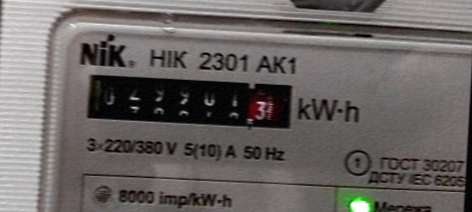0: (202, 82, 217, 108), (101, 83, 118, 105)
1: (227, 84, 241, 108)
2: (126, 82, 143, 102)
3: (253, 97, 267, 119)
9: (177, 83, 192, 105), (152, 81, 165, 104)
screen: (74, 62, 304, 138)
